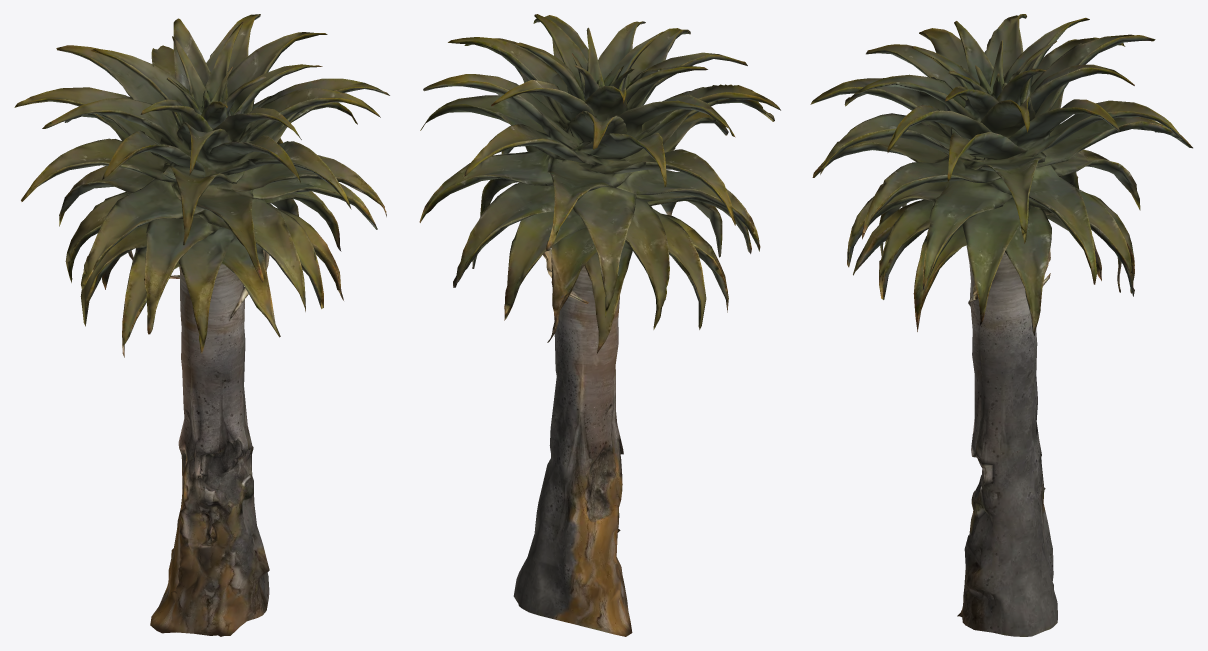
File: quiver_tree_02.glb
The picture shows the model from 3 angles, left to right: view 1: azimuth 30°, elevation 25°; view 2: azimuth 150°, elevation 25°; view 3: azimuth 270°, elevation 25°; orthographic projection.
Visible parts, largest first — view 1: quiver_tree_02; view 2: quiver_tree_02; view 3: quiver_tree_02.
Boxes of the visible parts, x1,y1,x2,y2 form: quiver_tree_02: [14, 14, 389, 636]; quiver_tree_02: [419, 14, 780, 636]; quiver_tree_02: [810, 14, 1192, 636].
Bounding box in the file's own units: 0.8716 × 1.47 × 0.8805.
Materials: 1 (1 with a texture image).
